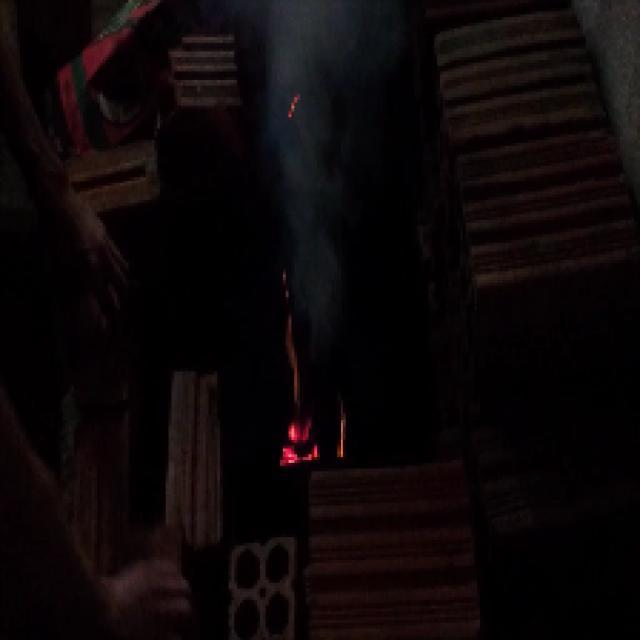Fire: (282, 406, 348, 468)
Smoke: (280, 0, 345, 349)
